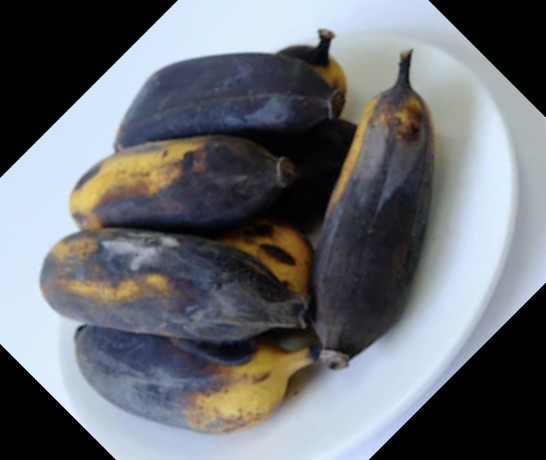rotten_banana: (40, 28, 436, 434)
